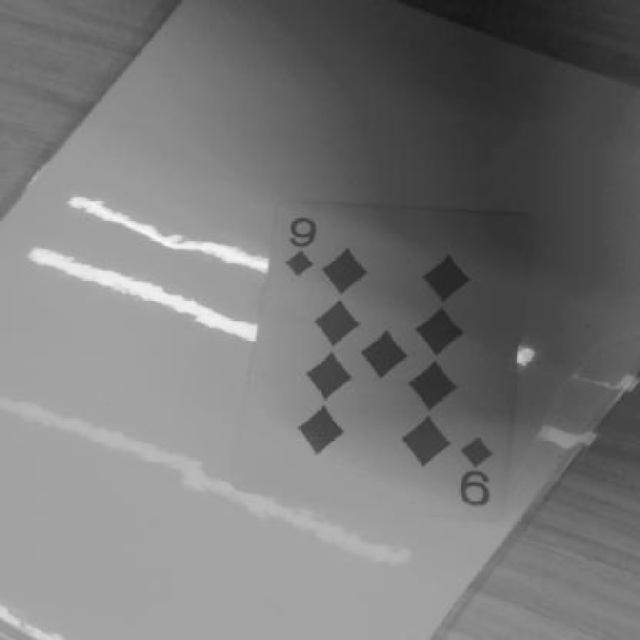9D: (272, 206, 330, 280)
